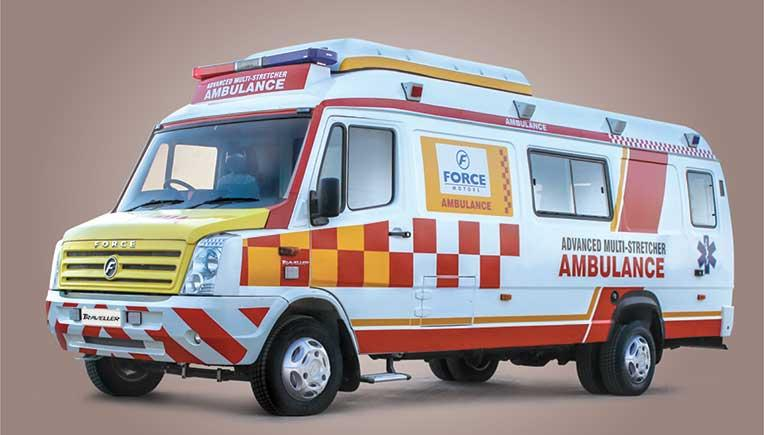ambulance: (43, 30, 728, 417)
